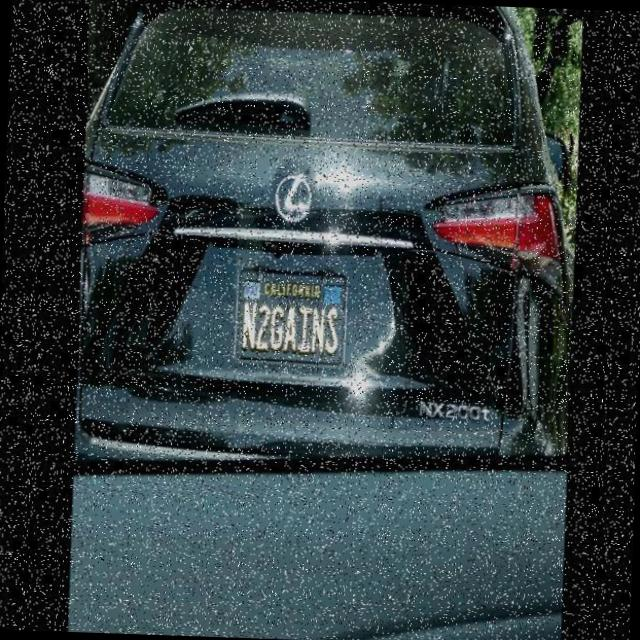LicensePlate: (234, 269, 346, 360)
